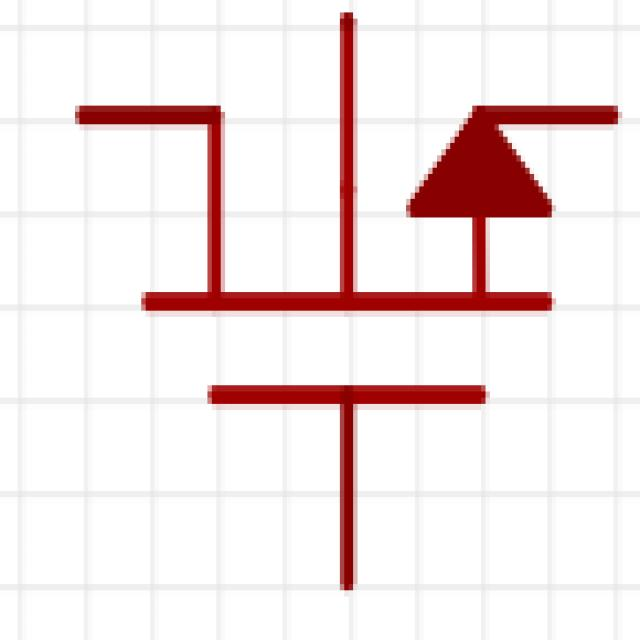nmos: (70, 14, 634, 616)
